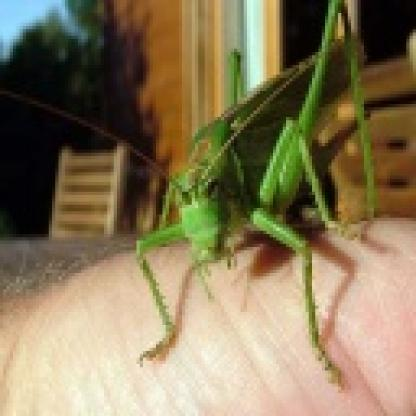grasshopper: (126, 0, 376, 388)
